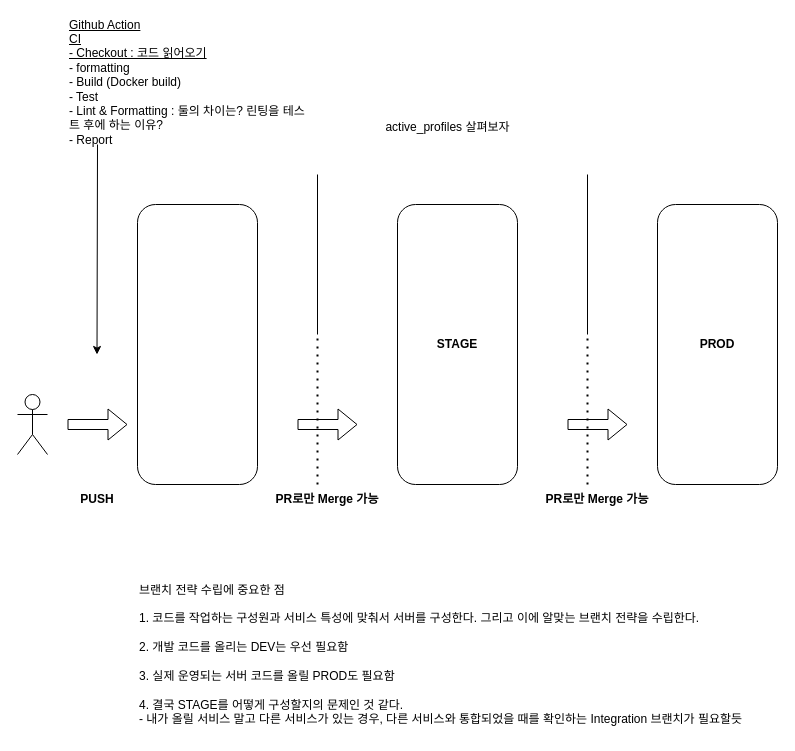
This 795x751 diagram has some shape labels left out. Each missing label, with the centre of its shape:
"Actor" belongs at (32,424).
"DEV" belongs at (197,344).
